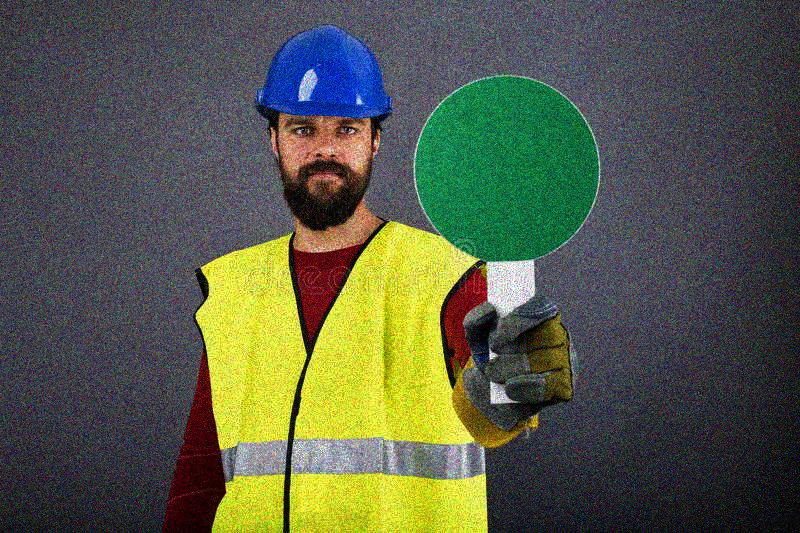helmet: (253, 22, 390, 229)
